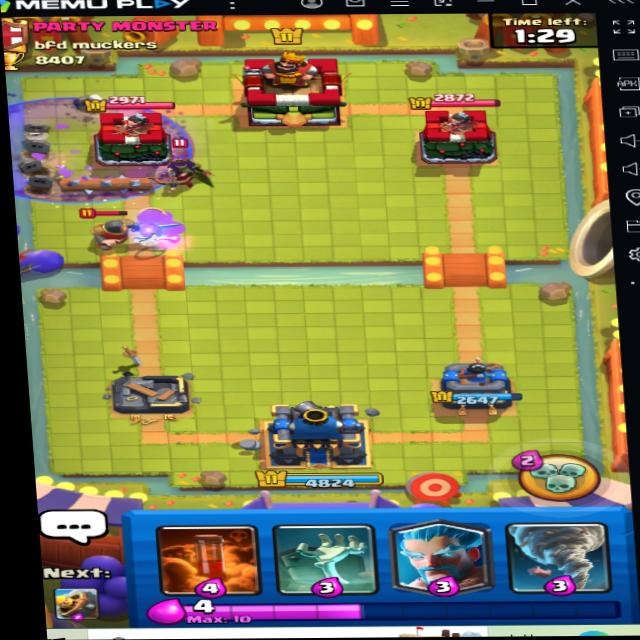archer-queen: (148, 137, 223, 204)
knight: (64, 199, 155, 271)
